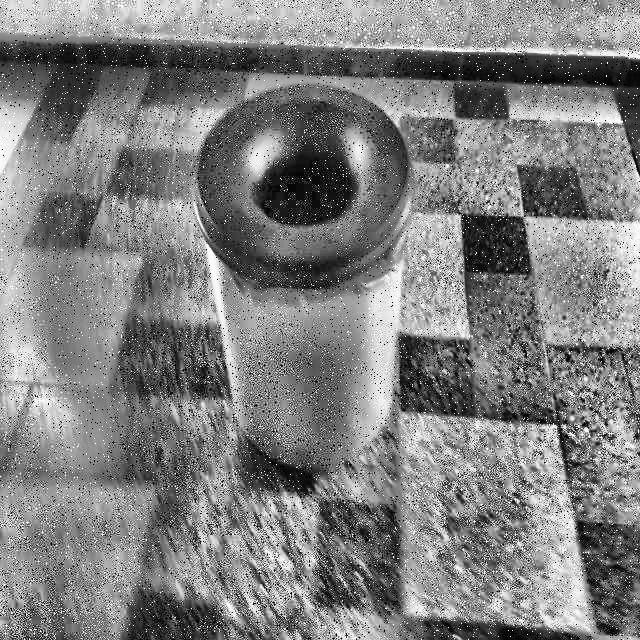Dustbin: (135, 52, 451, 510)
